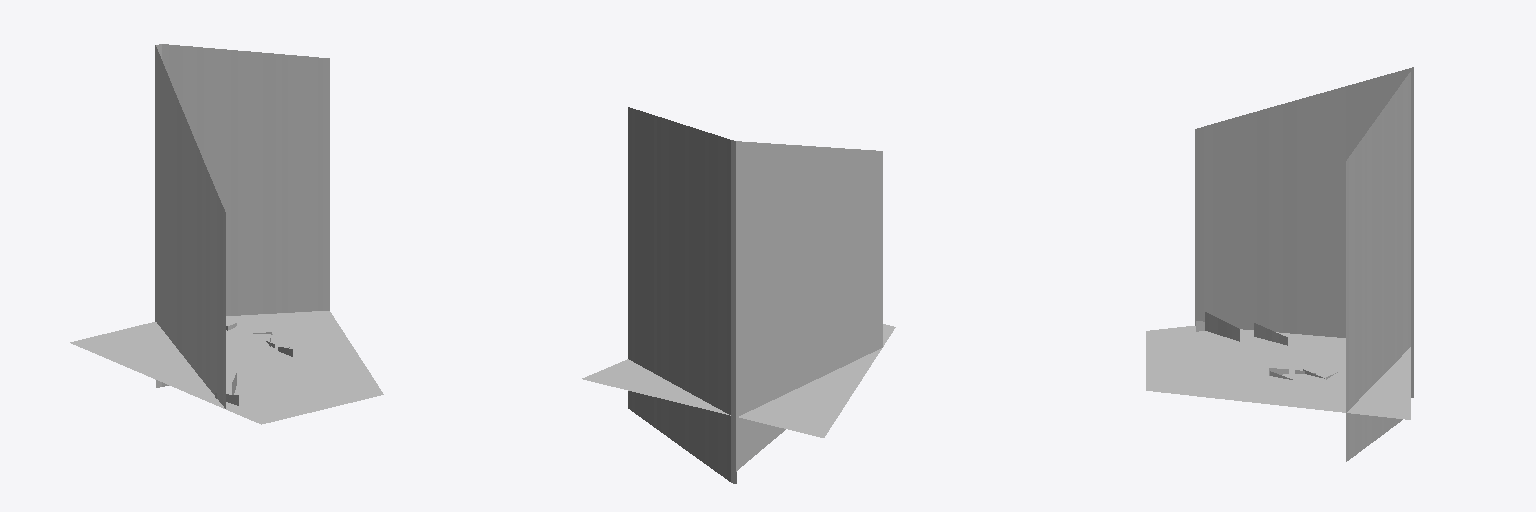
The model's file is alley.obj.
The picture shows the model from 3 angles: view 1: azimuth 30°, elevation 25°; view 2: azimuth 150°, elevation 25°; view 3: azimuth 270°, elevation 25°; orthographic projection.
Size of the model in its own units: 16.08 by 21.76 by 15.31.